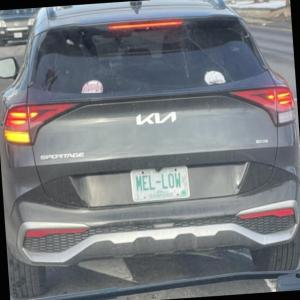Plate: (129, 165, 191, 203)
